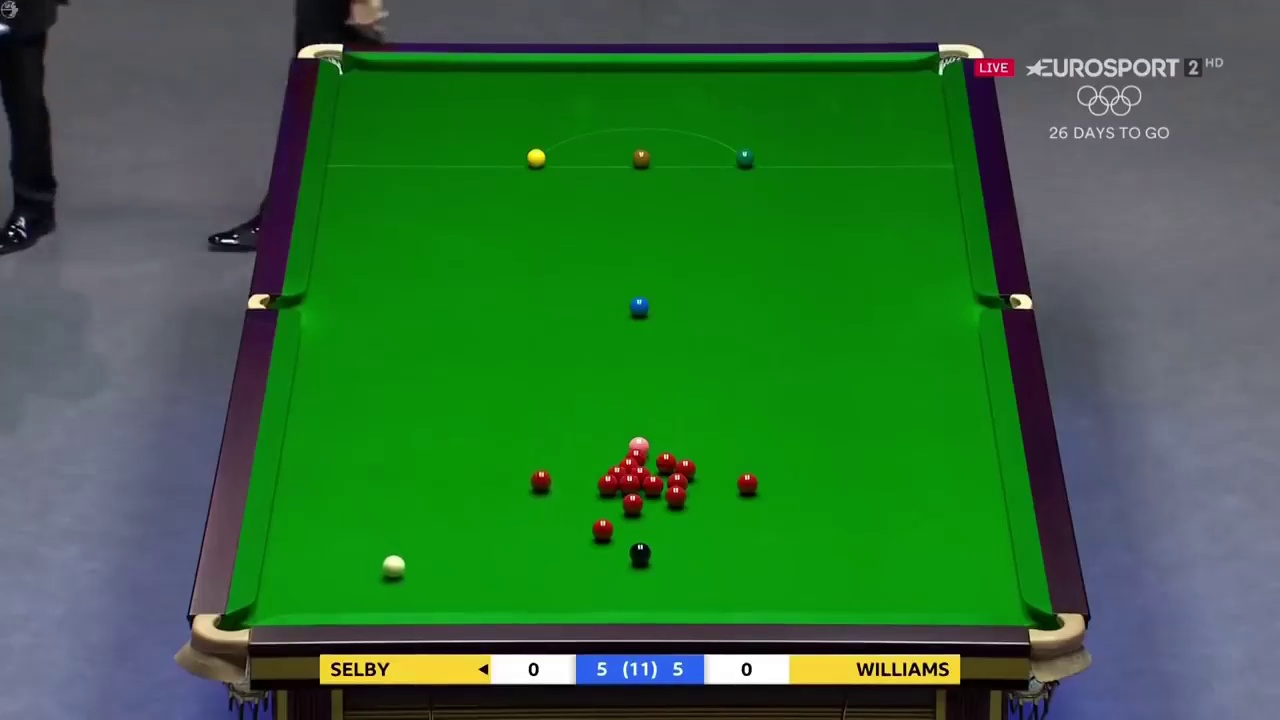blue: (628, 295, 650, 317)
brown: (630, 148, 649, 167)
green: (735, 148, 755, 168)
red: (735, 472, 759, 498), (663, 486, 688, 508), (654, 450, 676, 475), (529, 469, 551, 493), (593, 519, 613, 542), (598, 475, 618, 496), (624, 495, 641, 514)
white: (379, 553, 407, 579)
yellow: (524, 148, 546, 167)
